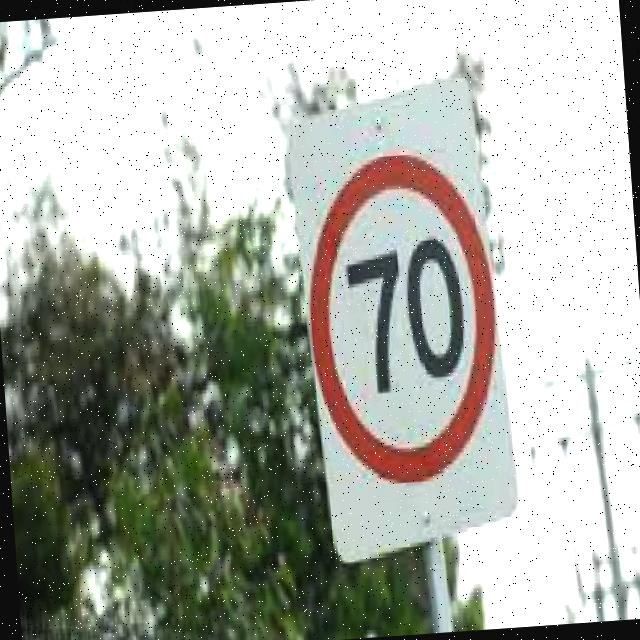Ograniczenie predkosci do 70: (305, 144, 506, 488)
